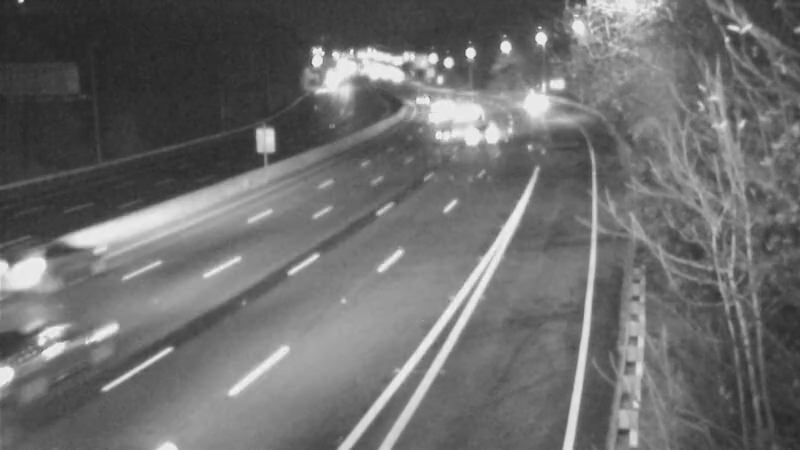vehicle: (1, 318, 91, 428), (1, 228, 72, 308), (400, 72, 450, 122), (508, 72, 558, 122), (441, 92, 491, 142), (413, 90, 463, 140), (458, 107, 508, 157), (424, 110, 474, 160)
